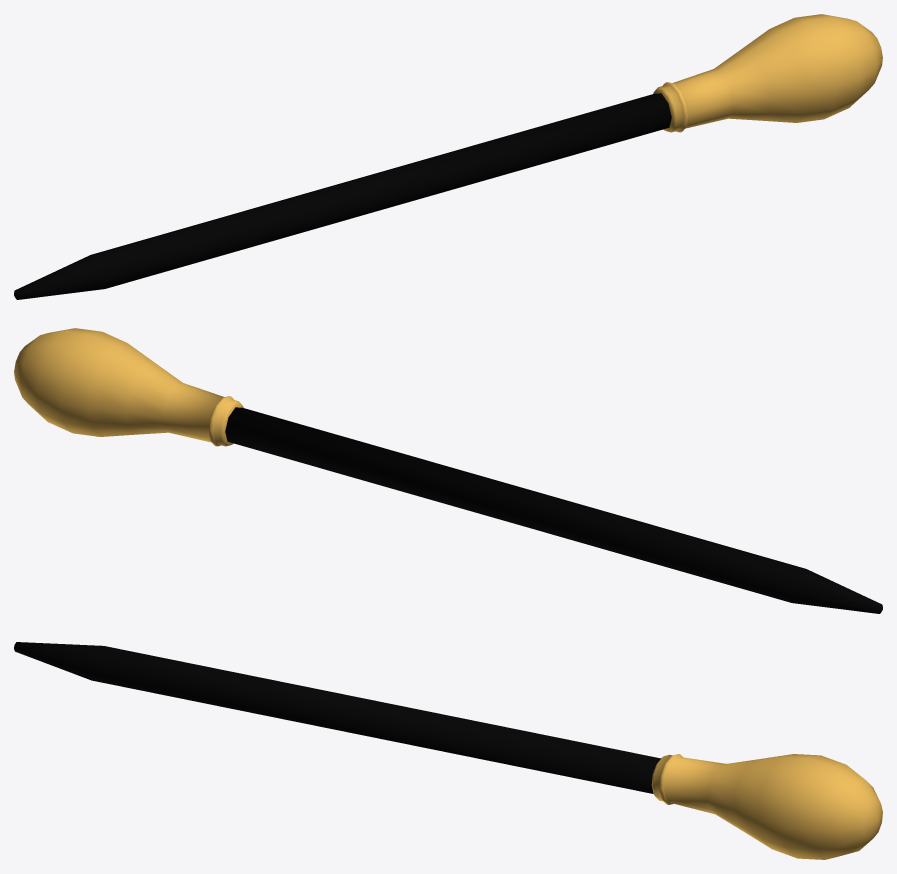
The model's file is spoid.fbx.
3 views of the same model, one above another, from view 1: azimuth 30°, elevation 25°; view 2: azimuth 150°, elevation 25°; view 3: azimuth 330°, elevation 25° (orthographic).
Parts seen in each view (by area): view 1: spoid_glass, spoid_rubber; view 2: spoid_glass, spoid_rubber; view 3: spoid_glass, spoid_rubber.
Part boxes in pixels (<box>): spoid_glass: <box>14,93,671,299</box>; spoid_rubber: <box>653,14,882,132</box>; spoid_glass: <box>225,407,882,613</box>; spoid_rubber: <box>14,328,243,446</box>; spoid_glass: <box>14,642,660,793</box>; spoid_rubber: <box>651,754,882,859</box>.
Size of the model in its own units: 18.61 by 1.97 by 1.98.
